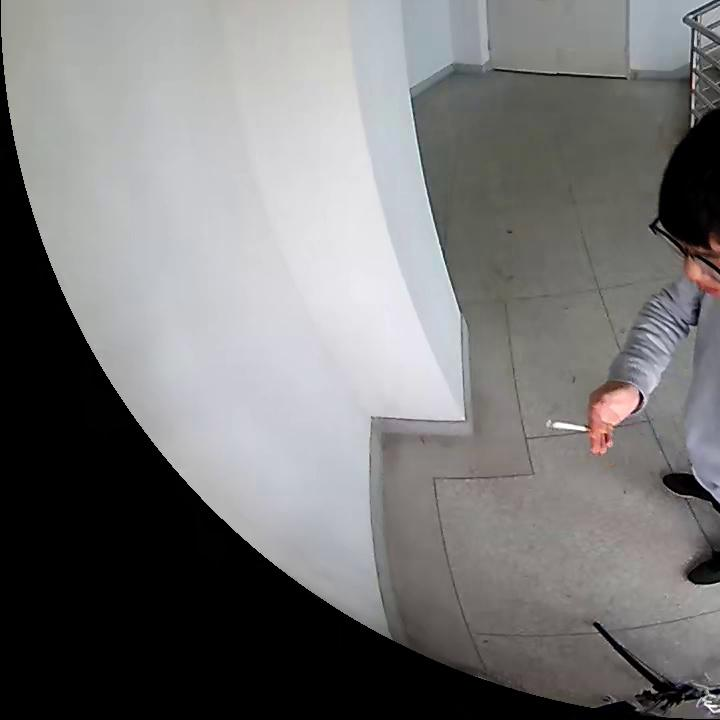handsmoke: (539, 384, 638, 458)
mouthwithoutsmoke: (650, 104, 720, 302)
